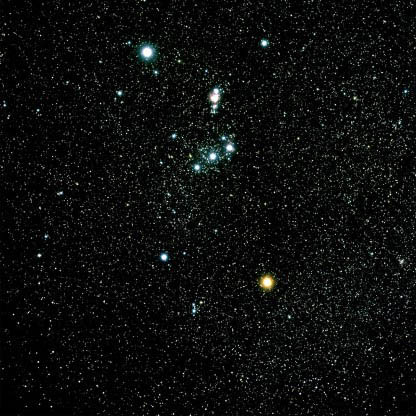Orion: (249, 263, 280, 302), (131, 37, 160, 75), (154, 245, 178, 274), (255, 30, 278, 56), (201, 140, 217, 171), (222, 136, 241, 161), (187, 156, 203, 184)
